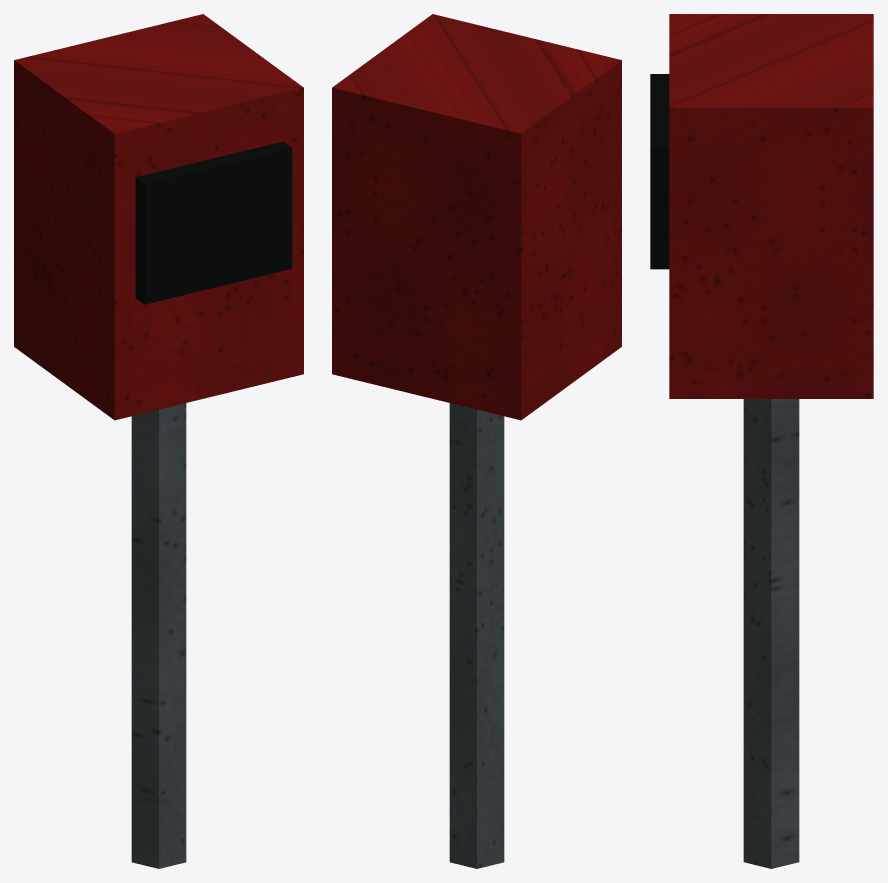
Rendered from PROP-A0ABBE1125F4_lod2.glb.
3 views of the same model, side by side, from view 1: azimuth 30°, elevation 25°; view 2: azimuth 150°, elevation 25°; view 3: azimuth 270°, elevation 25° (orthographic).
Visible parts, largest first — view 1: cabinet.001, fixture_post.001, recessed_front.001; view 2: cabinet.001, fixture_post.001; view 3: cabinet.001, fixture_post.001, recessed_front.001.
Boxes of the visible parts, x1=… form: cabinet.001: x1=14, y1=14, x2=303, y2=420; fixture_post.001: x1=131, y1=403, x2=186, y2=868; recessed_front.001: x1=135, y1=141, x2=292, y2=304; cabinet.001: x1=332, y1=14, x2=621, y2=420; fixture_post.001: x1=449, y1=403, x2=504, y2=868; cabinet.001: x1=669, y1=14, x2=873, y2=398; fixture_post.001: x1=743, y1=399, x2=799, y2=868; recessed_front.001: x1=650, y1=74, x2=669, y2=269.
Bounding box in the file's own units: 0.38 × 1.5 × 0.3825.
3 materials, 3 textured.
